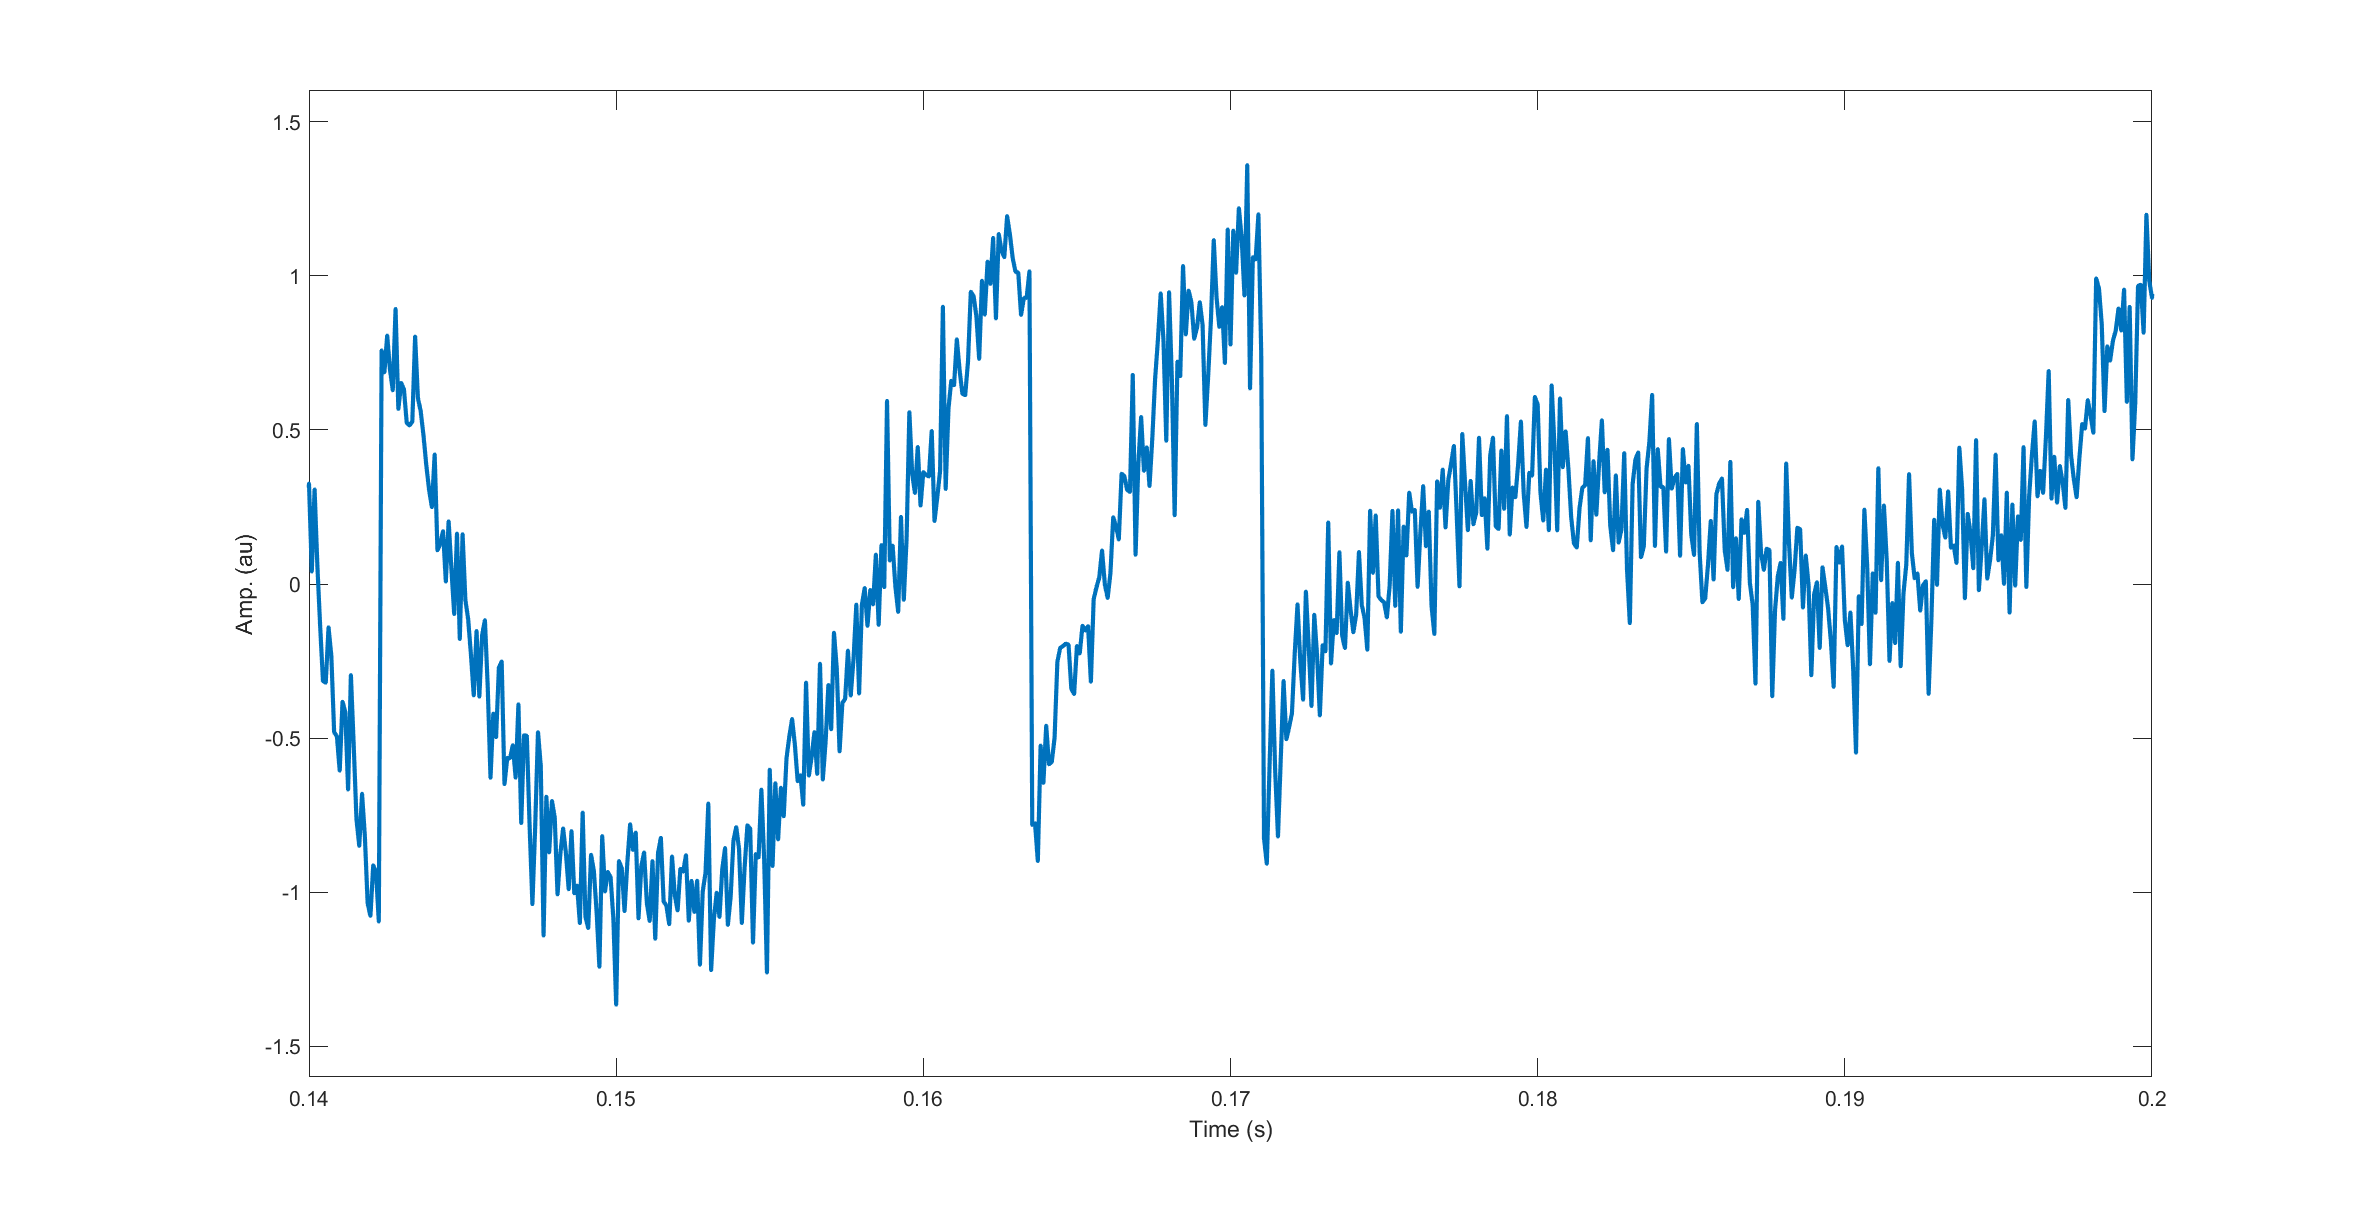negative_fringe: (370, 284, 509, 898)
positive_fringe: (1063, 151, 1279, 877), (852, 204, 1049, 867)
